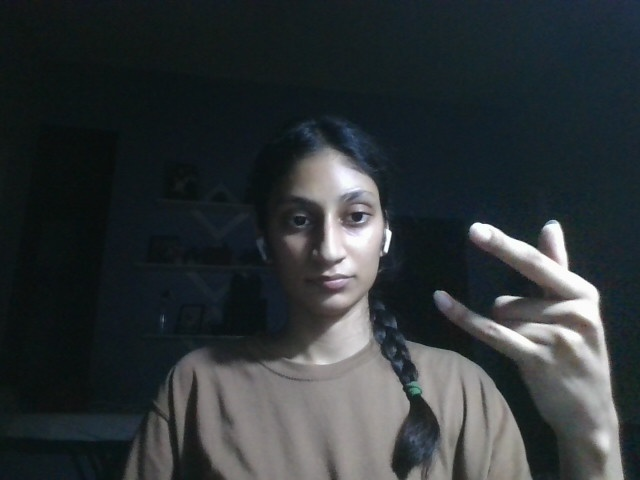i love you: (431, 215, 620, 445)
